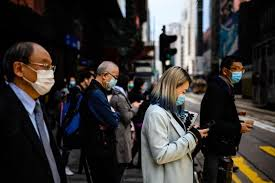mask: (5, 40, 55, 100), (157, 64, 190, 106), (218, 57, 243, 88), (94, 60, 119, 89), (133, 78, 147, 95), (66, 73, 77, 88), (128, 80, 134, 89)
